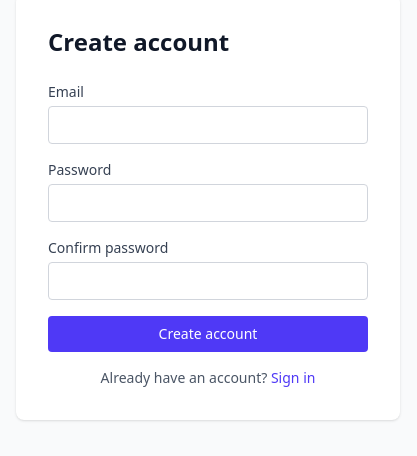
Scenario: RegisterPage › shows DRF field error for duplicate email
In the field labelled "Email": (208, 125) [48,106,368,144], type "dup@b.com"
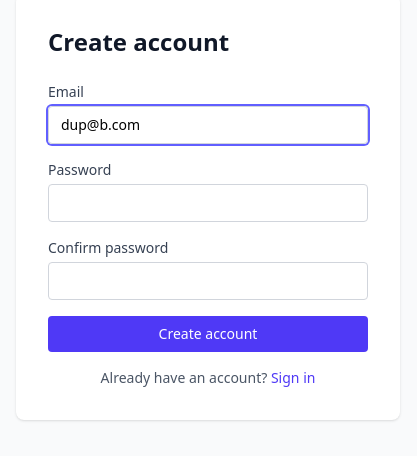
In the password field labelled "Password": (208, 203) [48,184,368,222], type "password123"
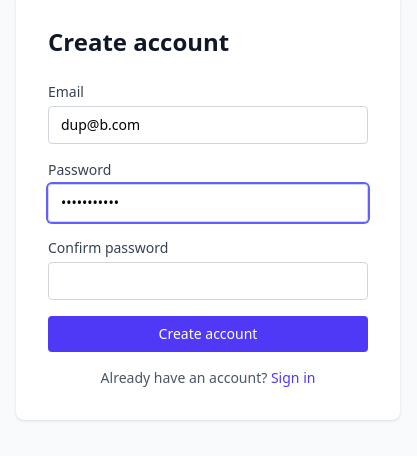
In the password field labelled "Confirm password": (208, 281) [48,262,368,300], type "password123"
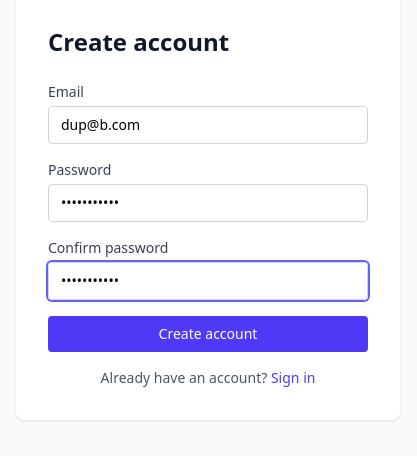
Click the button "Create account": (208, 334) [48,316,368,352]
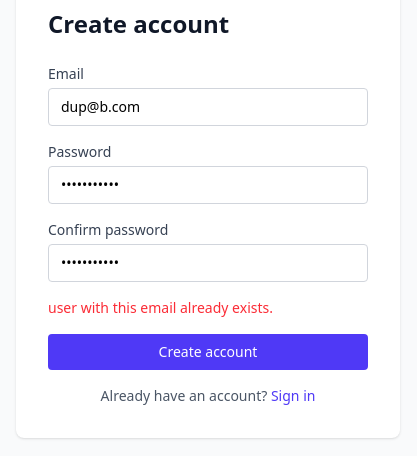
Now the text "user with this email already exists." is shown, box [48,298,273,317]
